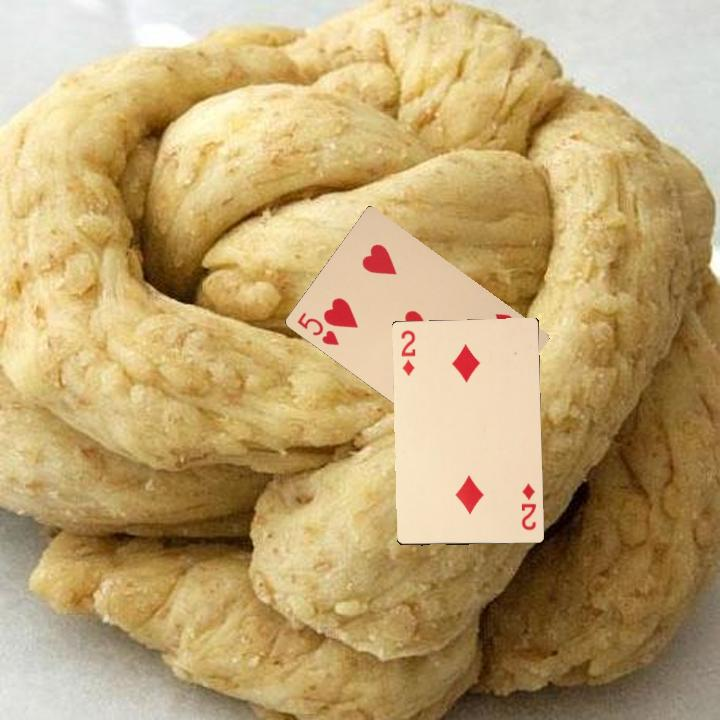2d: (517, 480, 539, 533), (397, 326, 418, 378)
5h: (293, 308, 342, 348)
